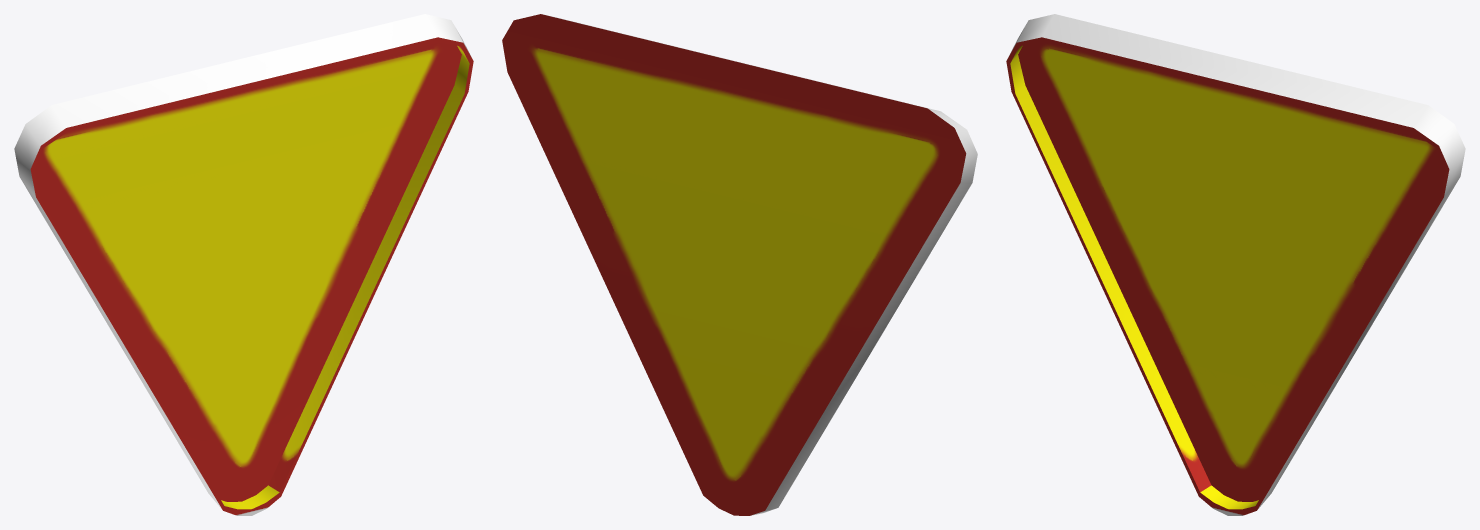
Rendered from brak.fbx.
3 renders of one model, left to right at view 1: azimuth 30°, elevation 25°; view 2: azimuth 150°, elevation 25°; view 3: azimuth 330°, elevation 25°, orthographic. The views are drawn at different scales.
Parts seen in each view (by area): view 1: Priority_GiveWay_LOD0; view 2: Priority_GiveWay_LOD0; view 3: Priority_GiveWay_LOD0.
Part boxes in pixels (<box>): Priority_GiveWay_LOD0: <box>14,14,473,515</box>; Priority_GiveWay_LOD0: <box>502,14,977,515</box>; Priority_GiveWay_LOD0: <box>1006,14,1465,515</box>.
Size of the model in its own units: 69.41 by 66.04 by 3.78.
